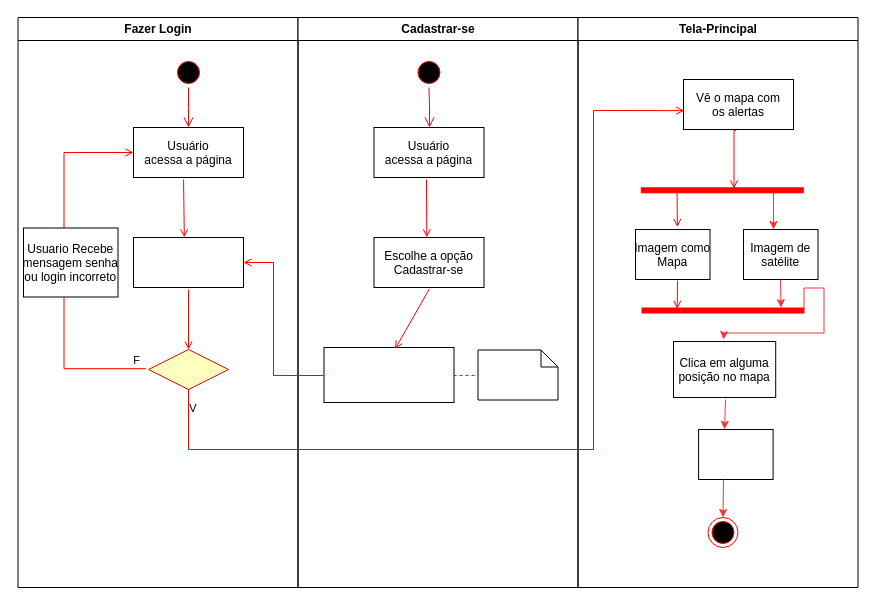
This 875x605 diagram has some shape labels left out. Here are the shapes that lost their labels. From the top down, the centre of each, then its label:
At pixel 188 262: "Usuário Informa Login e Senha".
At pixel 188 369: "autenticado".
At pixel 388 374: "Preenche os campos email, senha e confirmação de senha".
At pixel 517 374: "Envia os dados e é redirecionado".
At pixel 735 454: "Cadastra um novo alerta".
